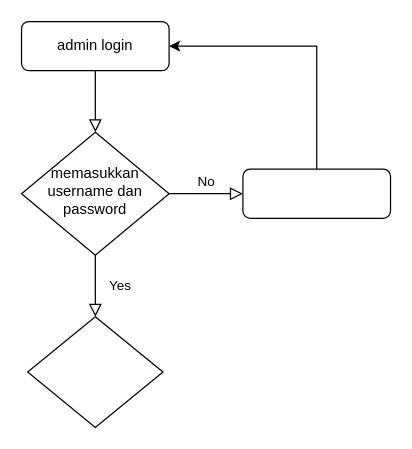
The diagram is 412 pixels wide and 449 high, and some of its shapes have lost their labels. Here are the shapes that lost their labels. From the top down, the box of each, then its label:
(242, 168, 391, 218): login gagal
(26, 315, 163, 427): masuk ke dashboard
